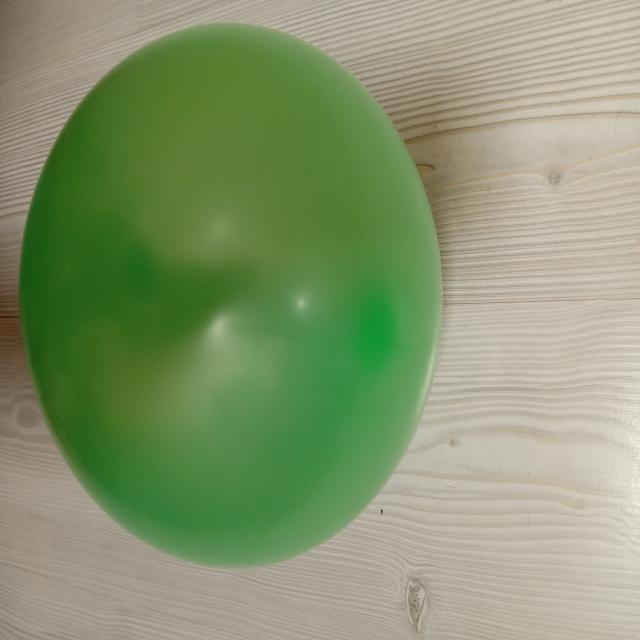balloon: (19, 24, 442, 566)
